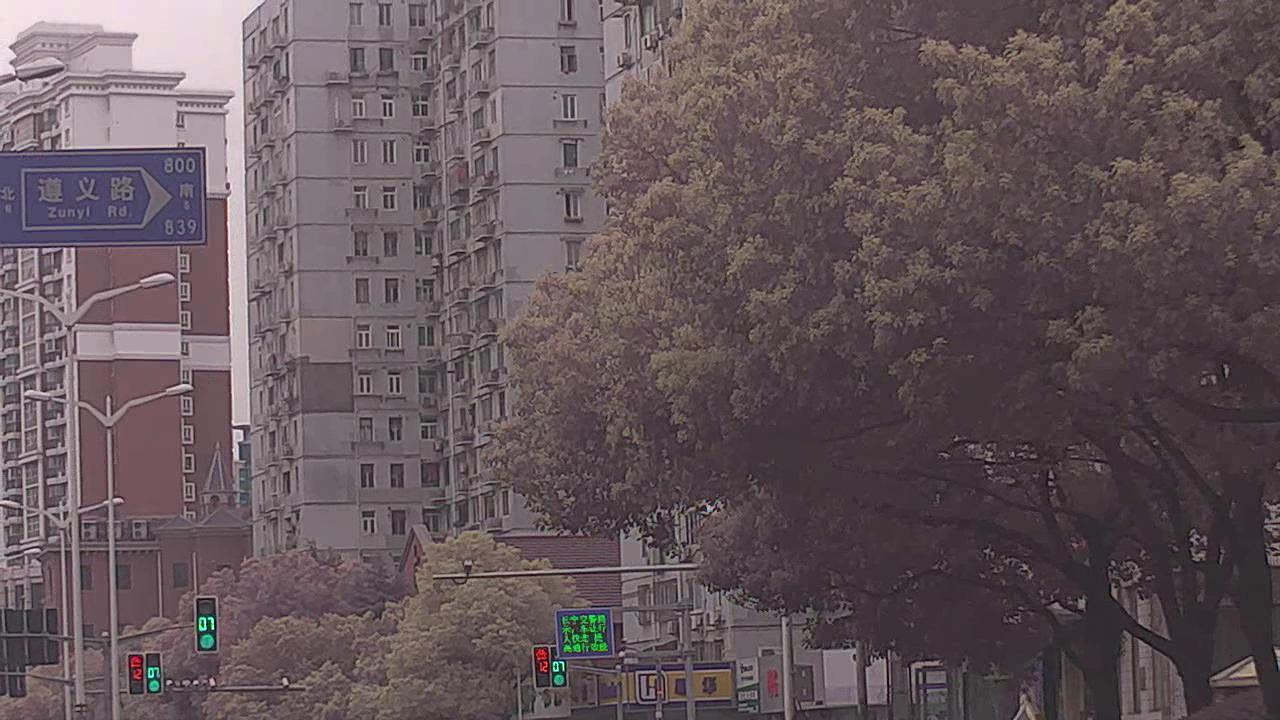traffic_light: (198, 594, 220, 651), (532, 646, 550, 690), (550, 648, 568, 687), (127, 650, 143, 692), (145, 655, 161, 691)
